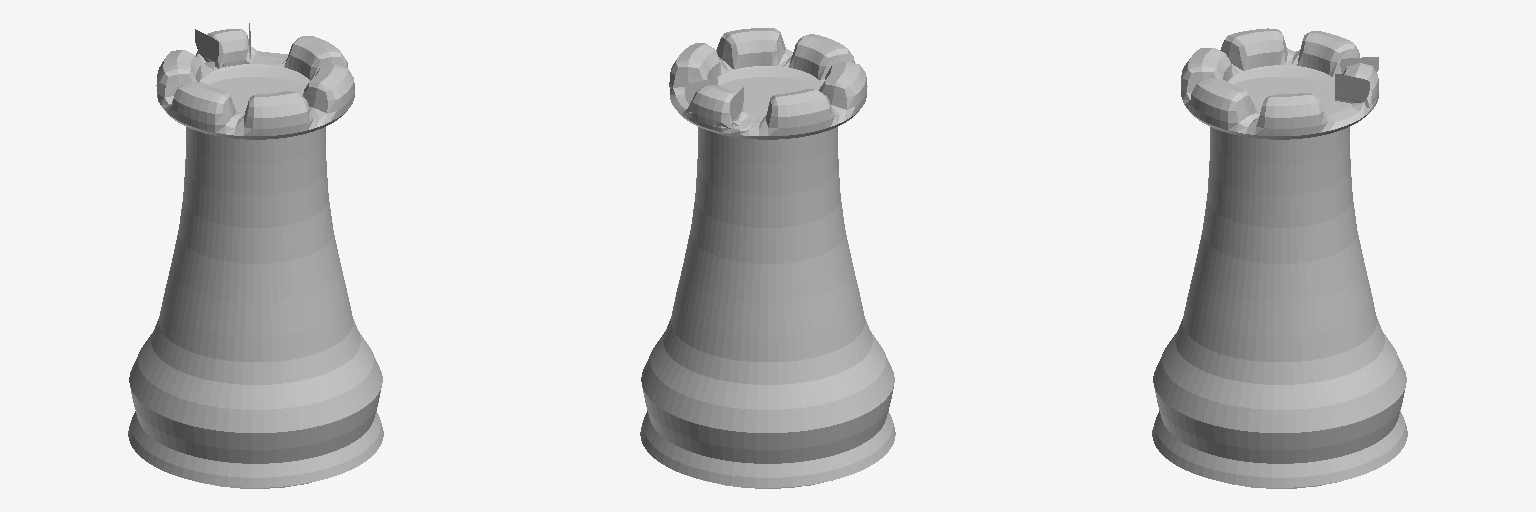
The model's file is CastlePiece.obj.
3 renders of one model, left to right at view 1: azimuth 30°, elevation 25°; view 2: azimuth 150°, elevation 25°; view 3: azimuth 270°, elevation 25°, orthographic.
Parts seen in each view (by area): view 1: Cylinder; view 2: Cylinder; view 3: Cylinder.
Part boxes in pixels (left/top/right/bottom): Cylinder: left=128, top=23, right=383, bottom=488; Cylinder: left=640, top=28, right=895, bottom=488; Cylinder: left=1152, top=28, right=1407, bottom=488.
Size of the model in its own units: 0.6657 by 1.12 by 0.6657.